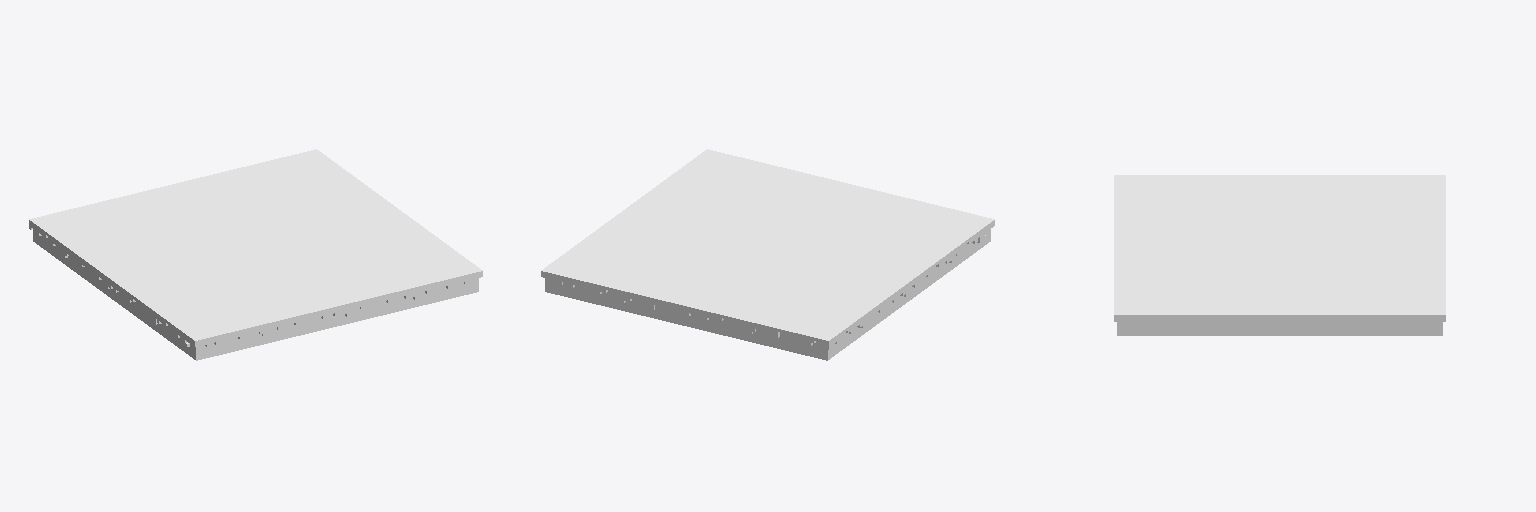
The model's file is graund.obj.
3 renders of one model, left to right at view 1: azimuth 30°, elevation 25°; view 2: azimuth 150°, elevation 25°; view 3: azimuth 270°, elevation 25°, orthographic.
Visible parts, largest first — view 1: object 1; view 2: object 1; view 3: object 1.
Boxes of the visible parts, x1=… form: object 1: x1=29, y1=149, x2=482, y2=360; object 1: x1=541, y1=149, x2=994, y2=360; object 1: x1=1114, y1=175, x2=1445, y2=335.
Size of the model in its own units: 9.7 by 0.7 by 9.7.